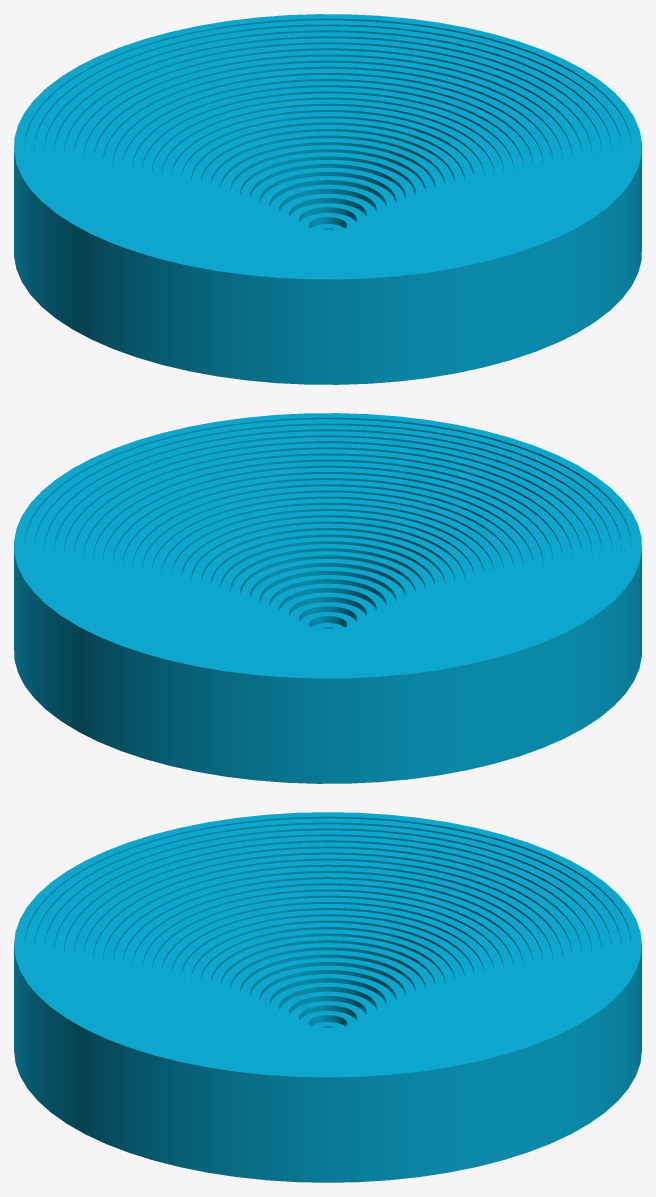
The model's file is corteza acumulado.fbx.
3 renders of one model, top to bottom at view 1: azimuth 30°, elevation 25°; view 2: azimuth 150°, elevation 25°; view 3: azimuth 270°, elevation 25°, orthographic.
Parts seen in each view (by area): view 1: y_raiz_de_x_cortezas_acomulado_ejey:corteza31, y_raiz_de_x_cortezas_acomulado_ejey:corteza30, y_raiz_de_x_cortezas_acomulado_ejey:corteza29, y_raiz_de_x_cortezas_acomulado_ejey:corteza28, y_raiz_de_x_cortezas_acomulado_ejey:corteza27, y_raiz_de_x_cortezas_acomulado_ejey:corteza26, y_raiz_de_x_cortezas_acomulado_ejey:corteza25, y_raiz_de_x_cortezas_acomulado_ejey:corteza24, y_raiz_de_x_cortezas_acomulado_ejey:corteza23, y_raiz_de_x_cortezas_acomulado_ejey:corteza22, y_raiz_de_x_cortezas_acomulado_ejey:corteza21, y_raiz_de_x_cortezas_acomulado_ejey:corteza20 (+18 smaller); view 2: y_raiz_de_x_cortezas_acomulado_ejey:corteza31, y_raiz_de_x_cortezas_acomulado_ejey:corteza30, y_raiz_de_x_cortezas_acomulado_ejey:corteza29, y_raiz_de_x_cortezas_acomulado_ejey:corteza28, y_raiz_de_x_cortezas_acomulado_ejey:corteza27, y_raiz_de_x_cortezas_acomulado_ejey:corteza26, y_raiz_de_x_cortezas_acomulado_ejey:corteza25, y_raiz_de_x_cortezas_acomulado_ejey:corteza24, y_raiz_de_x_cortezas_acomulado_ejey:corteza23, y_raiz_de_x_cortezas_acomulado_ejey:corteza22, y_raiz_de_x_cortezas_acomulado_ejey:corteza21, y_raiz_de_x_cortezas_acomulado_ejey:corteza20 (+18 smaller); view 3: y_raiz_de_x_cortezas_acomulado_ejey:corteza31, y_raiz_de_x_cortezas_acomulado_ejey:corteza30, y_raiz_de_x_cortezas_acomulado_ejey:corteza29, y_raiz_de_x_cortezas_acomulado_ejey:corteza28, y_raiz_de_x_cortezas_acomulado_ejey:corteza27, y_raiz_de_x_cortezas_acomulado_ejey:corteza26, y_raiz_de_x_cortezas_acomulado_ejey:corteza25, y_raiz_de_x_cortezas_acomulado_ejey:corteza24, y_raiz_de_x_cortezas_acomulado_ejey:corteza23, y_raiz_de_x_cortezas_acomulado_ejey:corteza22, y_raiz_de_x_cortezas_acomulado_ejey:corteza21, y_raiz_de_x_cortezas_acomulado_ejey:corteza20 (+18 smaller).
Boxes of the visible parts, bbox=[...] form: y_raiz_de_x_cortezas_acomulado_ejey:corteza31: bbox=[14, 14, 641, 384]; y_raiz_de_x_cortezas_acomulado_ejey:corteza30: bbox=[24, 20, 631, 274]; y_raiz_de_x_cortezas_acomulado_ejey:corteza29: bbox=[34, 26, 621, 272]; y_raiz_de_x_cortezas_acomulado_ejey:corteza28: bbox=[44, 32, 611, 270]; y_raiz_de_x_cortezas_acomulado_ejey:corteza27: bbox=[54, 38, 601, 267]; y_raiz_de_x_cortezas_acomulado_ejey:corteza26: bbox=[64, 44, 591, 265]; y_raiz_de_x_cortezas_acomulado_ejey:corteza25: bbox=[73, 50, 582, 263]; y_raiz_de_x_cortezas_acomulado_ejey:corteza24: bbox=[83, 56, 572, 261]; y_raiz_de_x_cortezas_acomulado_ejey:corteza23: bbox=[93, 62, 562, 258]; y_raiz_de_x_cortezas_acomulado_ejey:corteza22: bbox=[103, 68, 552, 256]; y_raiz_de_x_cortezas_acomulado_ejey:corteza21: bbox=[113, 75, 543, 254]; y_raiz_de_x_cortezas_acomulado_ejey:corteza20: bbox=[122, 81, 533, 252]; y_raiz_de_x_cortezas_acomulado_ejey:corteza31: bbox=[14, 413, 641, 783]; y_raiz_de_x_cortezas_acomulado_ejey:corteza30: bbox=[24, 419, 631, 673]; y_raiz_de_x_cortezas_acomulado_ejey:corteza29: bbox=[34, 425, 621, 671]; y_raiz_de_x_cortezas_acomulado_ejey:corteza28: bbox=[44, 431, 611, 669]; y_raiz_de_x_cortezas_acomulado_ejey:corteza27: bbox=[54, 437, 601, 666]; y_raiz_de_x_cortezas_acomulado_ejey:corteza26: bbox=[64, 443, 591, 664]; y_raiz_de_x_cortezas_acomulado_ejey:corteza25: bbox=[73, 449, 582, 662]; y_raiz_de_x_cortezas_acomulado_ejey:corteza24: bbox=[83, 455, 572, 660]; y_raiz_de_x_cortezas_acomulado_ejey:corteza23: bbox=[93, 461, 562, 657]; y_raiz_de_x_cortezas_acomulado_ejey:corteza22: bbox=[103, 467, 552, 655]; y_raiz_de_x_cortezas_acomulado_ejey:corteza21: bbox=[112, 474, 542, 653]; y_raiz_de_x_cortezas_acomulado_ejey:corteza20: bbox=[122, 480, 533, 651]; y_raiz_de_x_cortezas_acomulado_ejey:corteza31: bbox=[14, 812, 641, 1182]; y_raiz_de_x_cortezas_acomulado_ejey:corteza30: bbox=[25, 818, 630, 1072]; y_raiz_de_x_cortezas_acomulado_ejey:corteza29: bbox=[34, 824, 621, 1070]; y_raiz_de_x_cortezas_acomulado_ejey:corteza28: bbox=[44, 830, 611, 1068]; y_raiz_de_x_cortezas_acomulado_ejey:corteza27: bbox=[54, 836, 601, 1065]; y_raiz_de_x_cortezas_acomulado_ejey:corteza26: bbox=[64, 842, 591, 1063]; y_raiz_de_x_cortezas_acomulado_ejey:corteza25: bbox=[74, 848, 581, 1061]; y_raiz_de_x_cortezas_acomulado_ejey:corteza24: bbox=[83, 854, 572, 1059]; y_raiz_de_x_cortezas_acomulado_ejey:corteza23: bbox=[93, 860, 562, 1056]; y_raiz_de_x_cortezas_acomulado_ejey:corteza22: bbox=[103, 866, 552, 1054]; y_raiz_de_x_cortezas_acomulado_ejey:corteza21: bbox=[113, 873, 542, 1052]; y_raiz_de_x_cortezas_acomulado_ejey:corteza20: bbox=[123, 879, 532, 1050].
Size of the model in its own units: 26.61 by 4.92 by 26.61.
